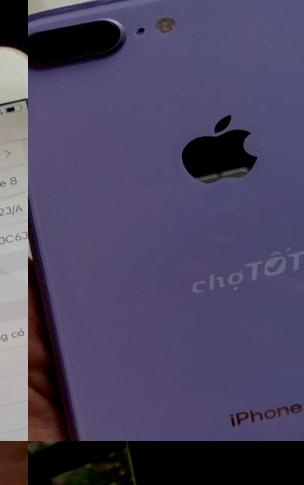scratch: (47, 0, 304, 25)
